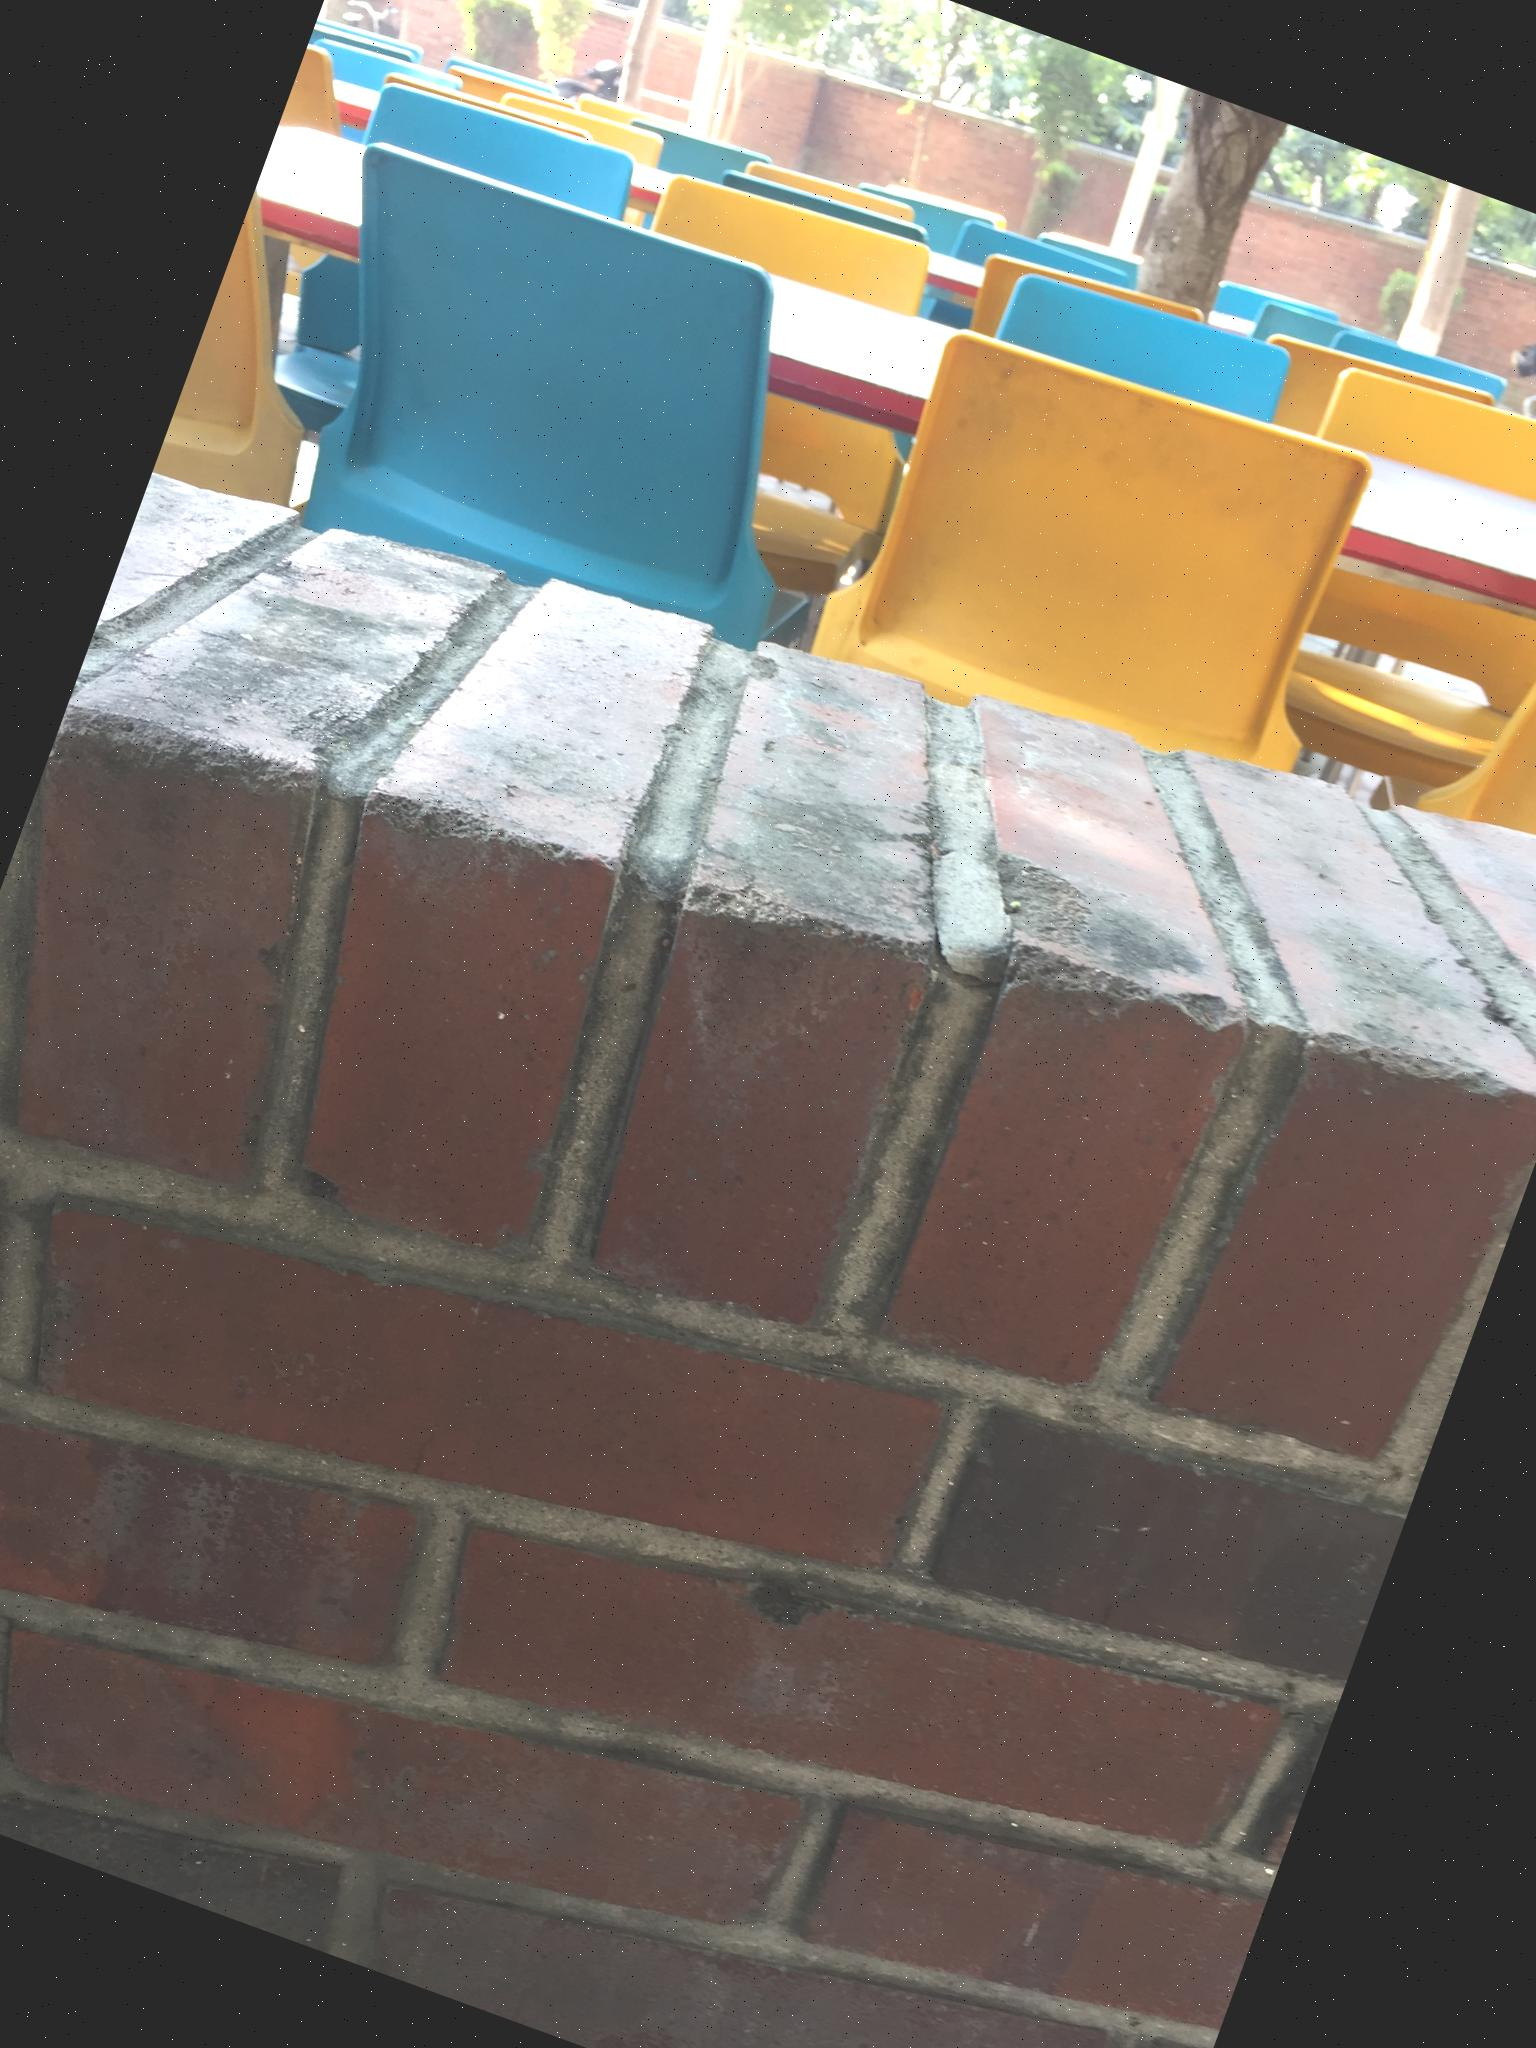chair: (237, 126, 881, 687), (805, 297, 1404, 822), (541, 147, 979, 635), (1204, 347, 1536, 843), (592, 173, 925, 640), (153, 190, 387, 519), (337, 68, 641, 281), (989, 252, 1297, 439), (1241, 313, 1499, 493), (1413, 511, 1536, 889), (1317, 342, 1536, 547), (1205, 269, 1344, 363)
